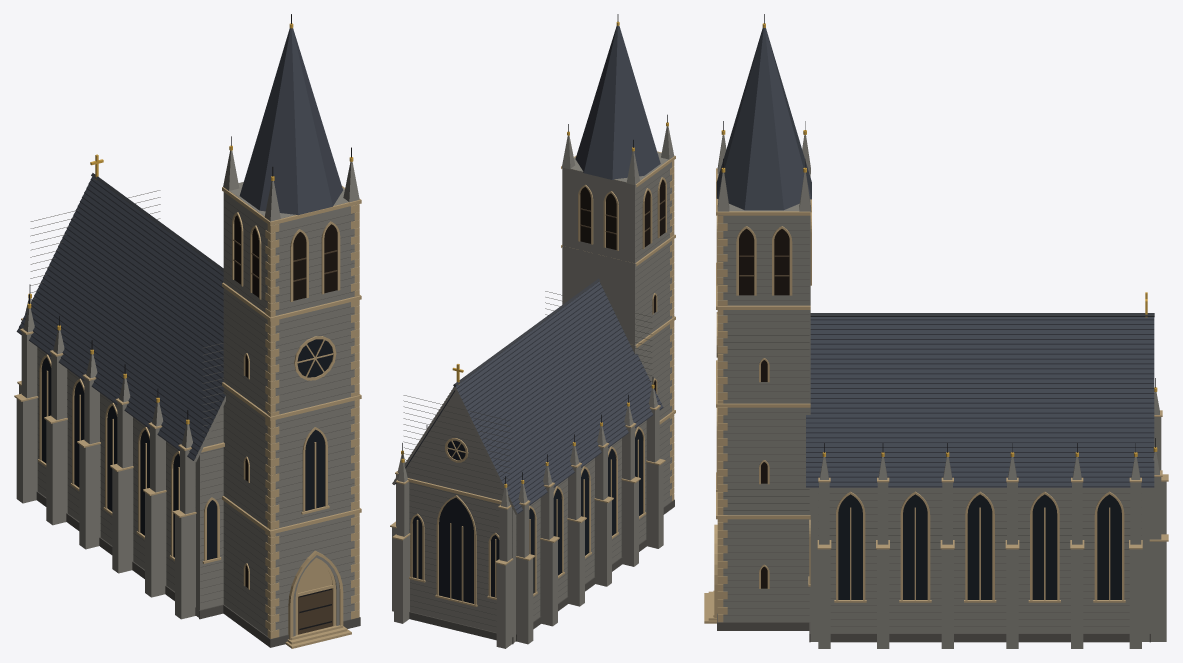
File: dom.glb
The picture shows the model from 3 angles, left to right: view 1: azimuth 30°, elevation 25°; view 2: azimuth 150°, elevation 25°; view 3: azimuth 270°, elevation 25°; orthographic projection. The views are drawn at different scales.
Parts seen in each view (by area): view 1: Turm, Dach, Wand_links, Wand_vorne; view 2: Dach, Turm, Wand_links, Wand_hinten; view 3: Dach, Wand_rechts, Turm, Wand_hinten, Wand_vorne.
Boxes of the visible parts, x1,y1,x2,y2 form: Turm: [222, 14, 361, 648]; Dach: [16, 154, 225, 461]; Wand_links: [14, 294, 196, 619]; Wand_vorne: [196, 442, 224, 619]; Dach: [392, 278, 663, 514]; Turm: [561, 14, 675, 514]; Wand_links: [515, 377, 665, 644]; Wand_hinten: [392, 451, 515, 648]; Dach: [806, 292, 1154, 487]; Wand_rechts: [817, 443, 1142, 648]; Turm: [704, 14, 811, 630]; Wand_hinten: [1142, 378, 1168, 642]; Wand_vorne: [808, 487, 818, 642].
Bounding box in the file's own units: 12.48 × 42.6 × 30.14.
